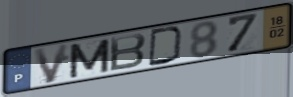7: (226, 12, 261, 54)
8: (188, 18, 222, 59)
B: (108, 32, 148, 73)
D: (147, 25, 186, 68)
M: (67, 37, 112, 80)
V: (31, 41, 72, 85)
